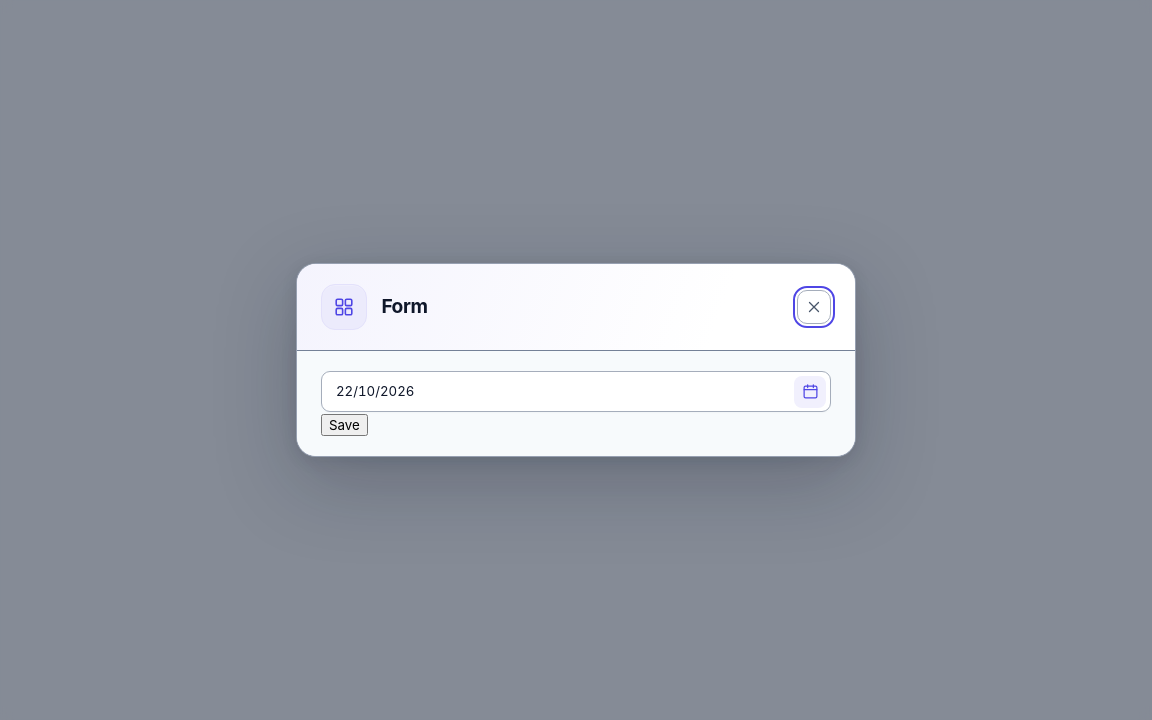
Test: closes just the calendar on Escape and supports keyboard navigation
Click the button named "Abrir calendario: Fecha inicio" at point(810, 392), box [794,376,826,408]
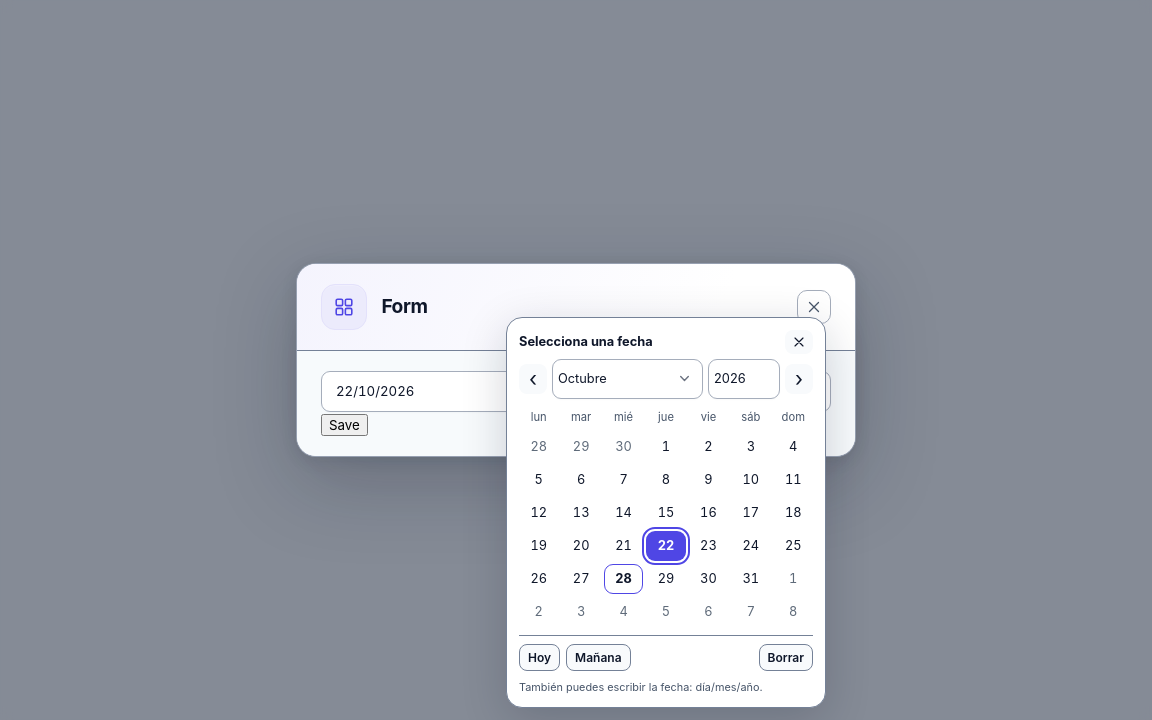
Press ArrowRight in the button "22", box [646,531,686,561]
Press Escape in the button "23", box [689,531,728,561]
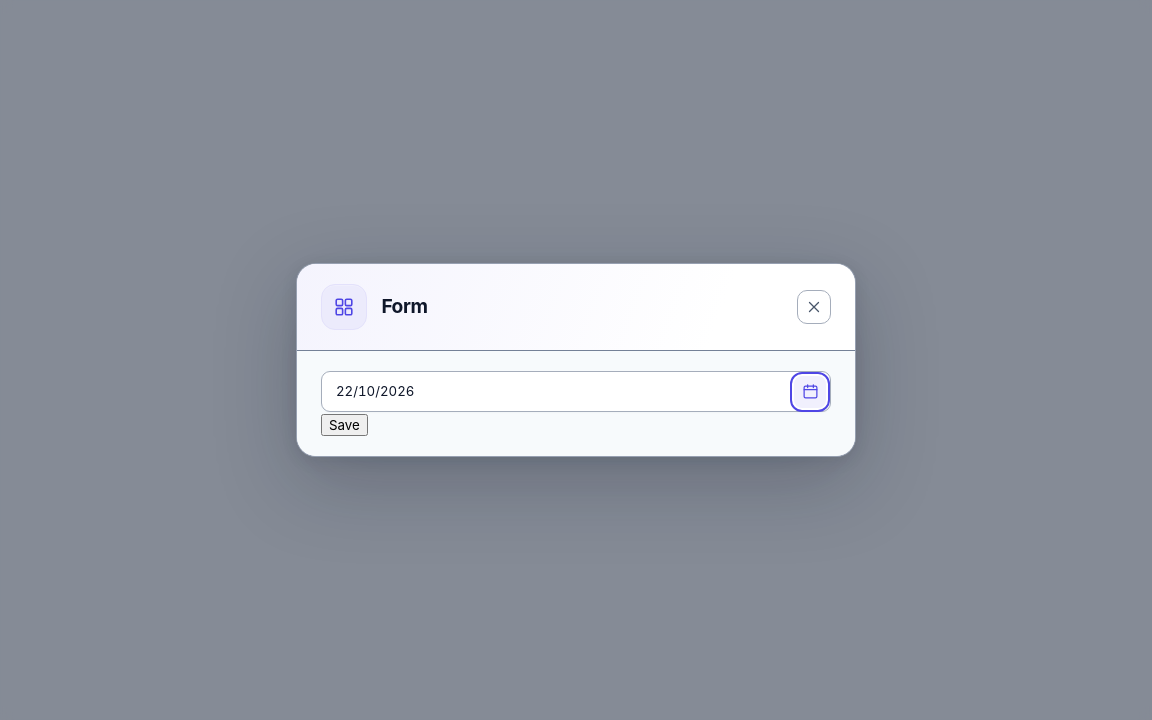
expect the dialog with class "calendar-popover" is gone: met
